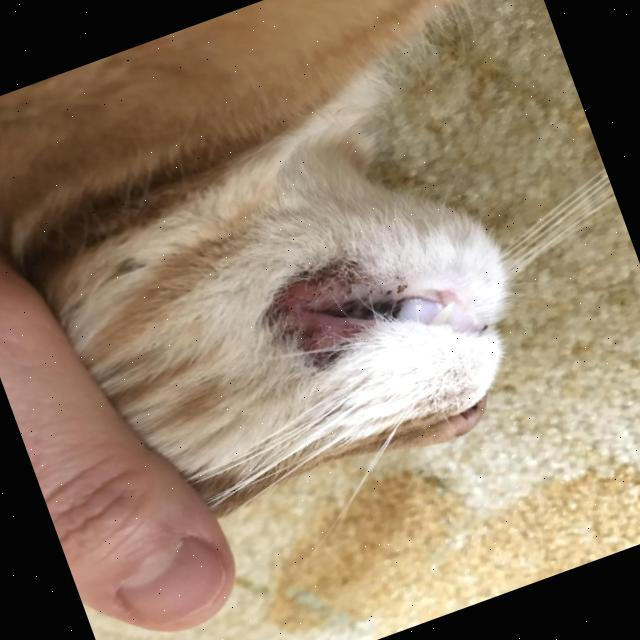cat-lump-and-bump: (258, 248, 386, 386)
